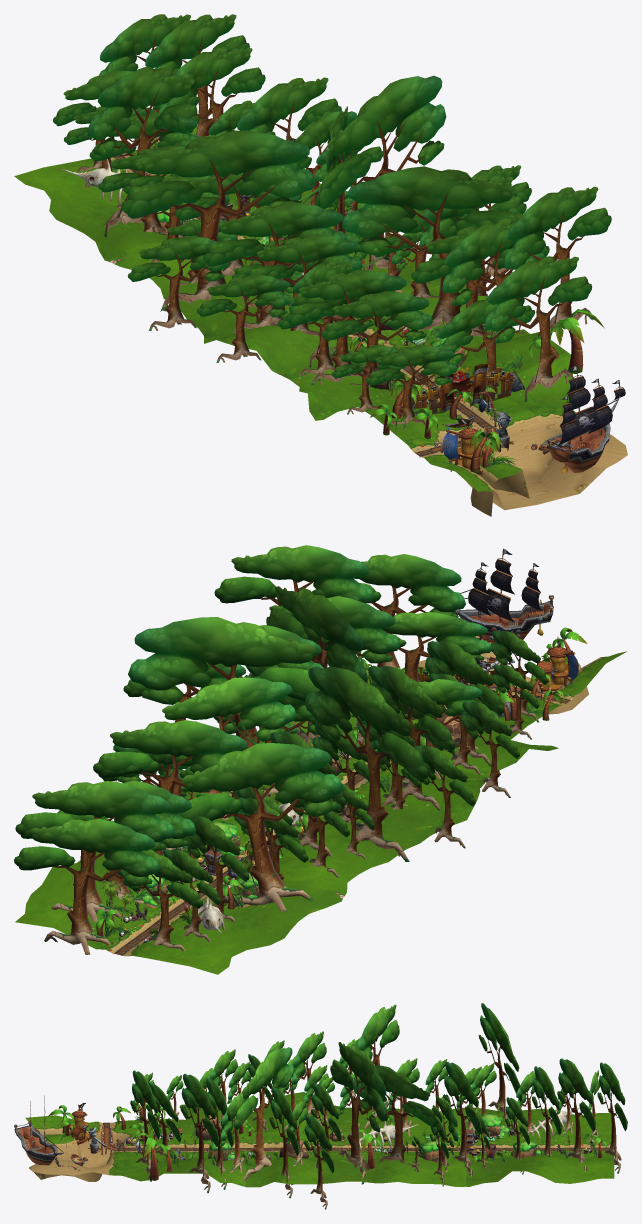
Rendered from game_pirate_adventure_map-transformed.glb.
The picture shows the model from 3 angles, top to bottom: view 1: azimuth 30°, elevation 25°; view 2: azimuth 150°, elevation 25°; view 3: azimuth 270°, elevation 25°; orthographic projection. The views are drawn at different scales.
Parts seen in each view (by area): view 1: hw_zhidao210_peijing_01_hw_peijing_01_0, hw_wandaoyou_dimian_01_hw_dixing_02_0, hw_zhidao210_dimian_01_hw_dixing_02_0, hw_zhidao210_peijing_04_hw_peijing_02_0, hw_zhidao210_daolu_01_hw_dixing_0; view 2: hw_zhidao210_peijing_01_hw_peijing_01_0, hw_wandaoyou_dimian_01_hw_dixing_02_0, hw_zhidao210_dimian_01_hw_dixing_02_0, hw_zhidao210_peijing_04_hw_peijing_02_0, hw_zhidao210_daolu_01_hw_dixing_0; view 3: hw_zhidao210_peijing_01_hw_peijing_01_0, hw_wandaoyou_dimian_01_hw_dixing_02_0, hw_zhidao210_dimian_01_hw_dixing_02_0, hw_zhidao210_peijing_04_hw_peijing_02_0, hw_zhidao210_daolu_01_hw_dixing_0.
Boxes of the visible parts, left/top/right/bottom form: hw_zhidao210_peijing_01_hw_peijing_01_0: left=53, top=14, right=625, bottom=473; hw_wandaoyou_dimian_01_hw_dixing_02_0: left=109, top=203, right=627, bottom=516; hw_zhidao210_dimian_01_hw_dixing_02_0: left=14, top=126, right=321, bottom=261; hw_zhidao210_peijing_04_hw_peijing_02_0: left=60, top=159, right=513, bottom=475; hw_zhidao210_daolu_01_hw_dixing_0: left=113, top=155, right=498, bottom=456; hw_zhidao210_peijing_01_hw_peijing_01_0: left=14, top=545, right=587, bottom=954; hw_wandaoyou_dimian_01_hw_dixing_02_0: left=163, top=636, right=626, bottom=898; hw_zhidao210_dimian_01_hw_dixing_02_0: left=15, top=851, right=342, bottom=974; hw_zhidao210_peijing_04_hw_peijing_02_0: left=133, top=637, right=578, bottom=948; hw_zhidao210_daolu_01_hw_dixing_0: left=114, top=683, right=570, bottom=955; hw_zhidao210_peijing_01_hw_peijing_01_0: left=14, top=1003, right=627, bottom=1209; hw_wandaoyou_dimian_01_hw_dixing_02_0: left=25, top=1092, right=465, bottom=1187; hw_zhidao210_dimian_01_hw_dixing_02_0: left=466, top=1107, right=614, bottom=1186; hw_zhidao210_peijing_04_hw_peijing_02_0: left=69, top=1103, right=581, bottom=1161; hw_zhidao210_daolu_01_hw_dixing_0: left=102, top=1122, right=609, bottom=1150.
Size of the model in its own units: 41662 by 23400 by 86937.
Materials: 5 (5 with a texture image).
